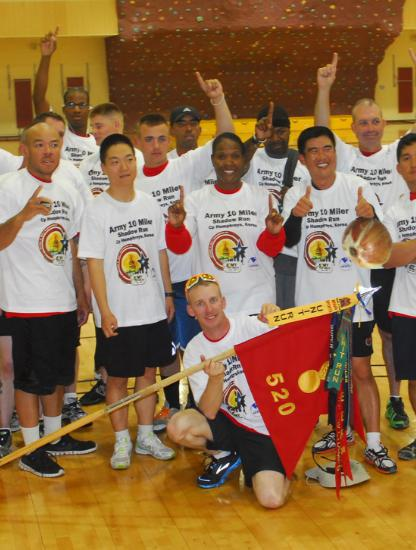Onion: (340, 216, 395, 271)
